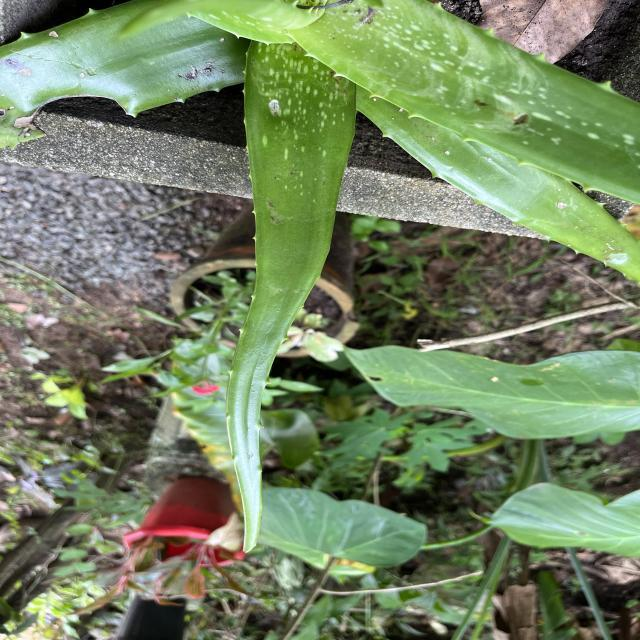Aloe vera: (222, 42, 366, 558)
